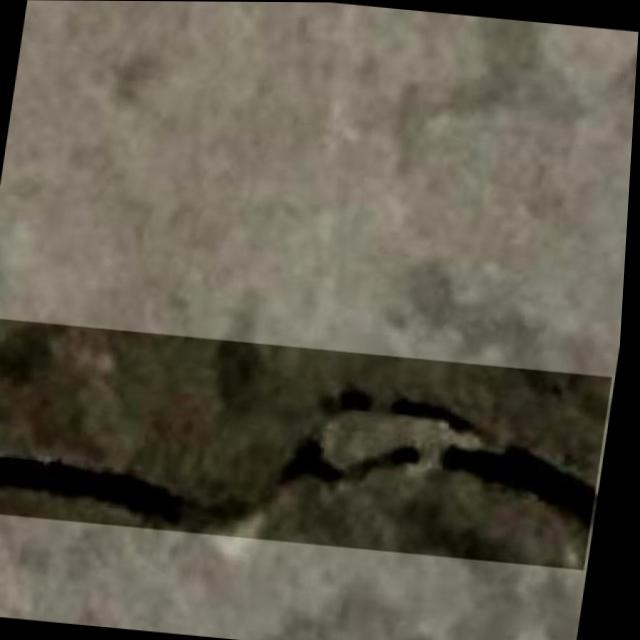Crack: (0, 308, 623, 581)
